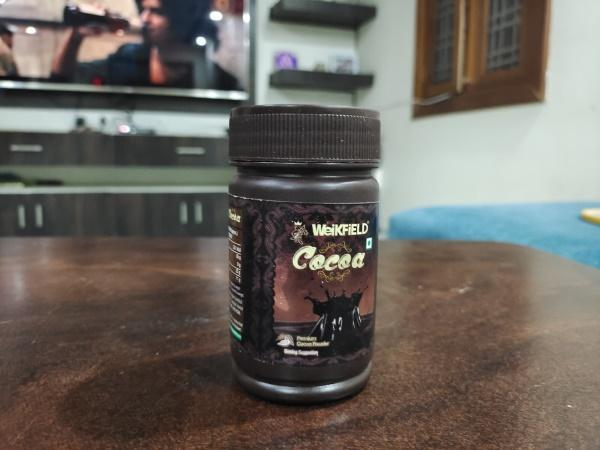Cocoa Powder: (222, 97, 386, 417)
